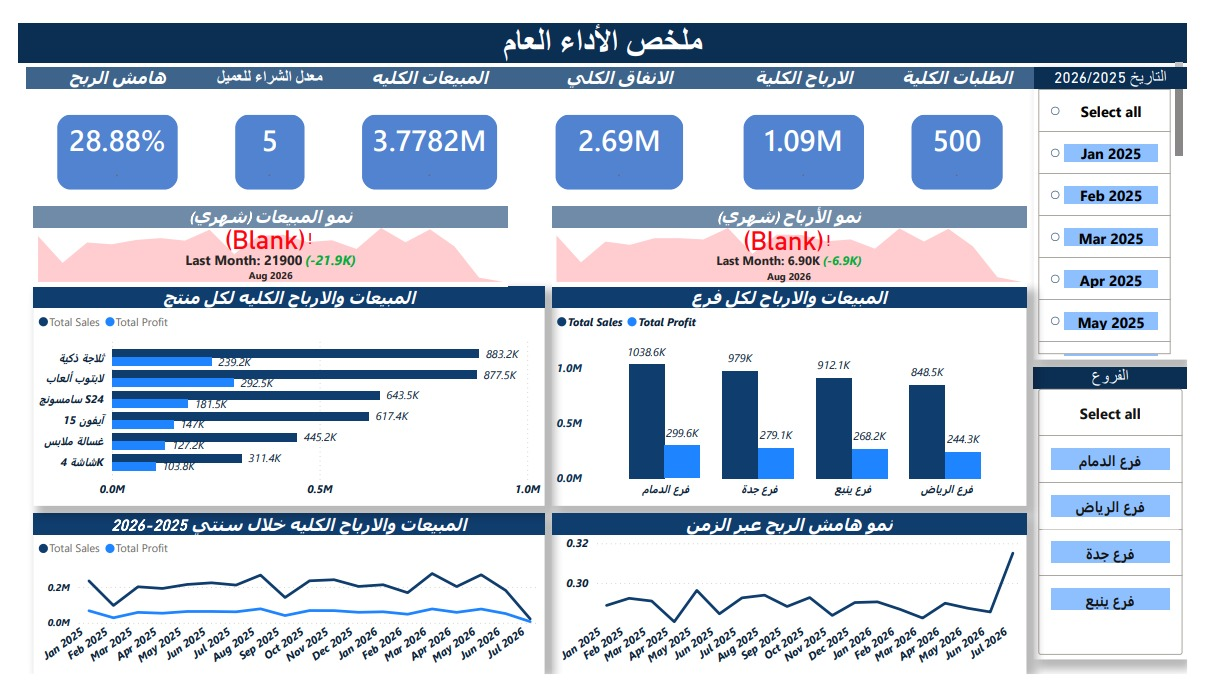

This screenshot's page, from the dashboard's own definition file:
{"tool":"powerbi","page":{"name":"Executive Summary","canvas":[1280,720],"ordinal":0},"visuals":[{"type":"textbox","title":"ملخص الأداء العام","box":[0,8,1280,56],"z":0},{"type":"advancedSlicerVisual","title":"التاريخ 2026/2025","fields":{"Values":["Calendar.Month Year"]},"box":[1112,56,168,320],"z":1000},{"type":"advancedSlicerVisual","title":"الفروع","fields":{"Values":["Branches.BranchName"]},"box":[1112,384,168,320],"z":2000},{"type":"lineChart","title":"المبيعات والارباح الكليه خلال سنتي  2025-2026","fields":{"Y":["Orders.Total Sales","Orders.Total Profit"],"Category":["Calendar.Month Year"]},"box":[16,544,560,176],"z":3000},{"type":"clusteredBarChart","title":"المبيعات والارباح الكليه لكل منتج","fields":{"Category":["Products.ProductName"],"Y":["Orders.Total Sales","Orders.Total Profit"]},"box":[16,296,560,240],"z":4000},{"type":"clusteredColumnChart","title":"المبيعات والارباح لكل فرع","fields":{"Category":["Branches.BranchName"],"Y":["Orders.Total Sales","Orders.Total Profit"]},"box":[584,296,520,240],"z":5000},{"type":"lineChart","title":"نمو هامش الربح عبر الزمن","fields":{"Category":["Calendar.Month Year"],"Y":["Orders.Profit Margin%"]},"box":[584,544,520,176],"z":6000},{"type":"cardVisual","title":"الطلبات الكلية","fields":{"Data":["Orders.Total Orders"]},"box":[944,56,168,168],"z":7000},{"type":"cardVisual","title":"المبيعات الكليه","fields":{"Data":["Orders.Total Sales"]},"box":[342.4,56,216,168],"z":8000},{"type":"cardVisual","title":"الانفاق الكلي","fields":{"Data":["Orders.Total Cost"]},"box":[553.6,56,208,168],"z":9000},{"type":"cardVisual","title":"الارباح الكلية","fields":{"Data":["Orders.Total Profit"]},"box":[760,56,200,168],"z":10000},{"type":"cardVisual","title":"هامش الربح","fields":{"Data":["Orders.Profit Margin%"]},"box":[8,56,200,168],"z":11000},{"type":"cardVisual","title":"معدل الشراء للعميل","fields":{"Data":["Orders.Avg Orders Per Customer"]},"box":[203.2,56,144,168],"z":12000},{"type":"kpi","title":"نمو الأرباح (شهري)","fields":{"TrendLine":["Calendar.Month Year"],"Indicator":["Orders.Total Profit"],"Goal":["Orders.Profit Last Month"]},"box":[584,208,520,88],"z":13000},{"type":"kpi","title":"نمو المبيعات (شهري)","fields":{"Goal":["Orders.Sales Last Month"],"Indicator":["Orders.Total Sales"],"TrendLine":["Calendar.Month Year"]},"box":[16,208,520,88],"z":14000}]}

Visuals, with their boxes in screenshot pixels (x1, y1, x2, y2), scaled from the page's 1280x720 canvas onto the 1208x690 screenshot:
"ملخص الأداء العام" textbox: x1=0 y1=8 x2=1207 y2=61
"التاريخ 2026/2025" advancedSlicerVisual: x1=1049 y1=54 x2=1207 y2=360
"الفروع" advancedSlicerVisual: x1=1049 y1=368 x2=1207 y2=675
"المبيعات والارباح الكليه خلال سنتي  2025-2026" lineChart: x1=15 y1=521 x2=544 y2=689
"المبيعات والارباح الكليه لكل منتج" clusteredBarChart: x1=15 y1=284 x2=544 y2=514
"المبيعات والارباح لكل فرع" clusteredColumnChart: x1=551 y1=284 x2=1042 y2=514
"نمو هامش الربح عبر الزمن" lineChart: x1=551 y1=521 x2=1042 y2=689
"الطلبات الكلية" cardVisual: x1=891 y1=54 x2=1049 y2=215
"المبيعات الكليه" cardVisual: x1=323 y1=54 x2=527 y2=215
"الانفاق الكلي" cardVisual: x1=522 y1=54 x2=719 y2=215
"الارباح الكلية" cardVisual: x1=717 y1=54 x2=906 y2=215
"هامش الربح" cardVisual: x1=8 y1=54 x2=196 y2=215
"معدل الشراء للعميل" cardVisual: x1=192 y1=54 x2=328 y2=215
"نمو الأرباح (شهري)" kpi: x1=551 y1=199 x2=1042 y2=284
"نمو المبيعات (شهري)" kpi: x1=15 y1=199 x2=506 y2=284
